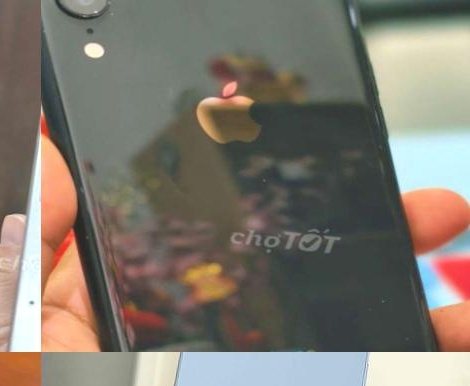scratch: (249, 171, 276, 189), (396, 325, 415, 349), (95, 0, 121, 16), (44, 0, 70, 9), (41, 23, 53, 39), (374, 295, 385, 307)
